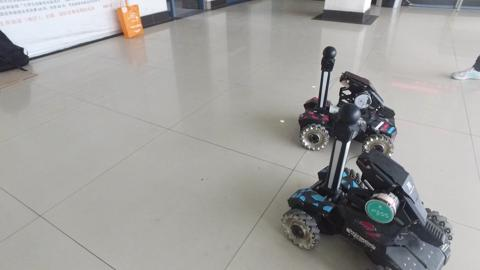chariot: (282, 103, 456, 270), (294, 46, 400, 157)
